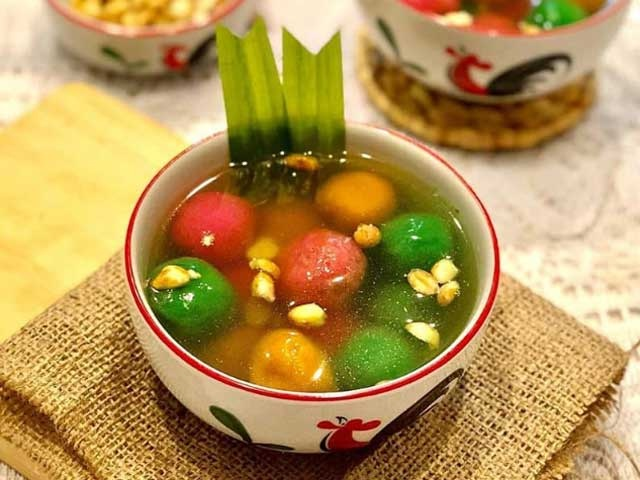ronde: (146, 152, 475, 395)
